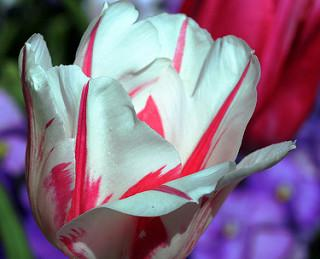tulip: (14, 0, 296, 259)
